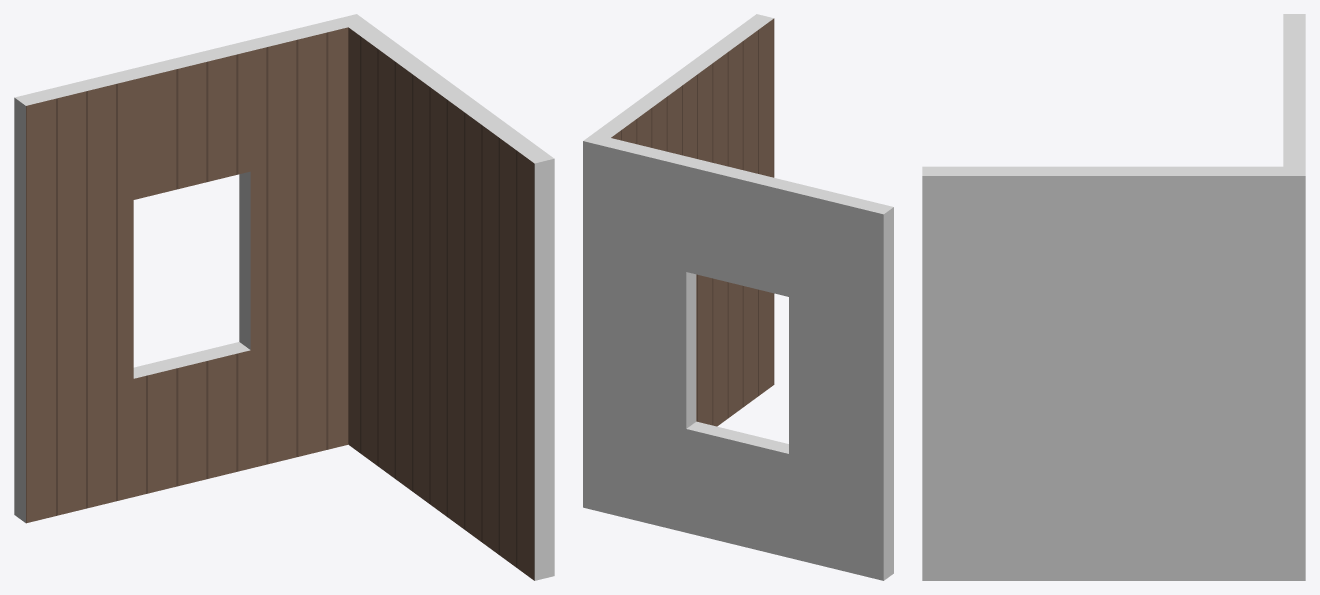
File: Wall1_C9_07.fbx
3 views of the same model, side by side, from view 1: azimuth 30°, elevation 25°; view 2: azimuth 150°, elevation 25°; view 3: azimuth 270°, elevation 25° (orthographic). The views are drawn at different scales.
Visible parts, largest first — view 1: Wall1_C9_07; view 2: Wall1_C9_07; view 3: Wall1_C9_07.
Part boxes in pixels (x1,y1,x2,y2): Wall1_C9_07: (14, 14, 554, 580); Wall1_C9_07: (583, 14, 893, 580); Wall1_C9_07: (922, 14, 1305, 580).
Size of the model in its own units: 258 by 300 by 258.
